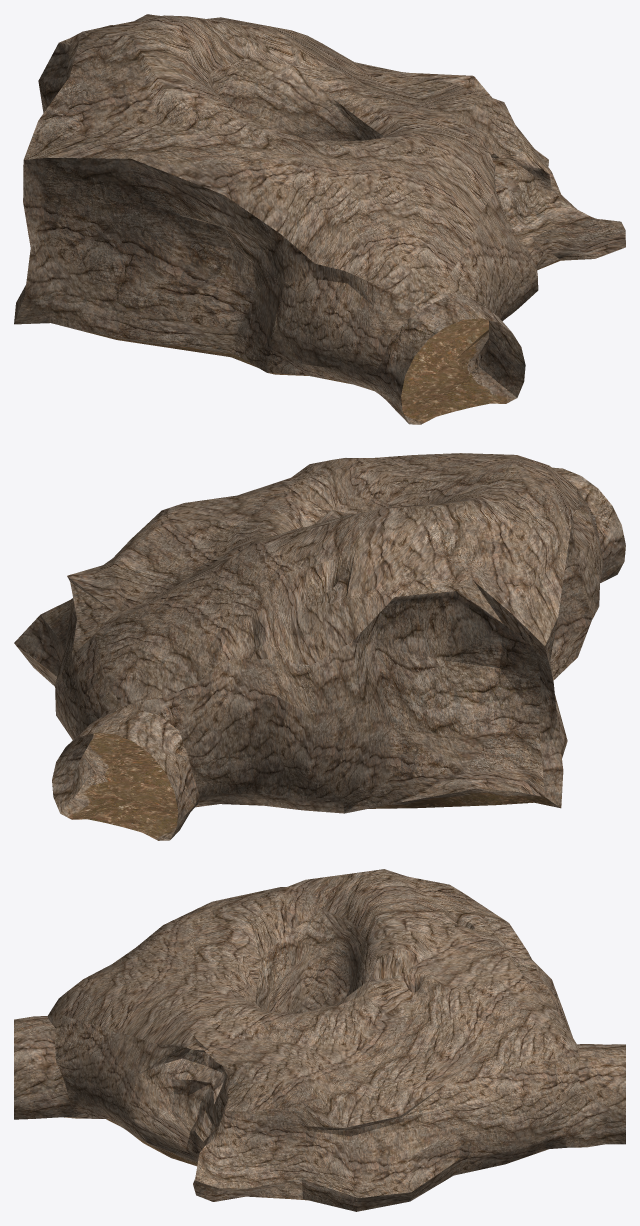
File: CaveRoomPillarOpen.obj
3 views of the same model, one above another, from view 1: azimuth 30°, elevation 25°; view 2: azimuth 150°, elevation 25°; view 3: azimuth 270°, elevation 25° (orthographic). The views are drawn at different scales.
Visible parts, largest first — view 1: CaveRoomPillarOpen; view 2: CaveRoomPillarOpen; view 3: CaveRoomPillarOpen.
Part boxes in pixels (x1,y1,x2,y2): CaveRoomPillarOpen: [14, 14, 625, 424]; CaveRoomPillarOpen: [14, 453, 625, 840]; CaveRoomPillarOpen: [14, 869, 625, 1211].
Bounding box in the file's own units: 13.41 × 6.33 × 16.8.
